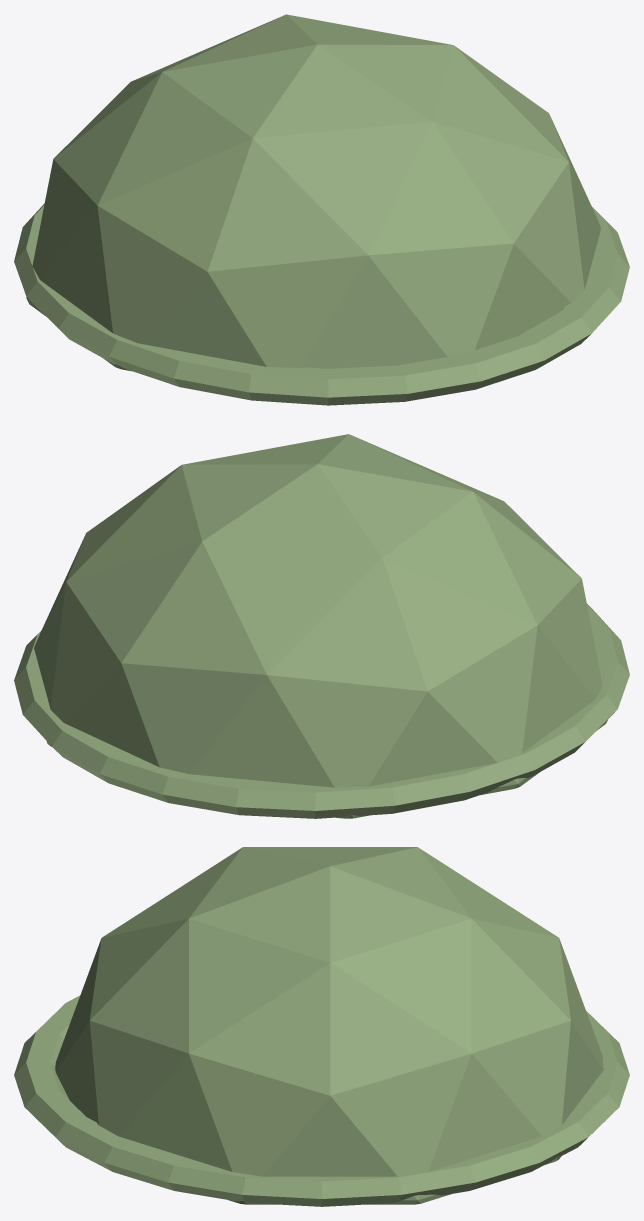
File: hw-helmet.glb
3 renders of one model, top to bottom at view 1: azimuth 30°, elevation 25°; view 2: azimuth 150°, elevation 25°; view 3: azimuth 270°, elevation 25°, orthographic. The views are drawn at different scales.
Visible parts, largest first — view 1: helmet_pot, helmet_rim; view 2: helmet_pot, helmet_rim; view 3: helmet_pot, helmet_rim.
Boxes of the visible parts, <box> form: helmet_pot: <box>26,14,601,371</box>; helmet_rim: <box>14,203,629,405</box>; helmet_pot: <box>34,434,607,818</box>; helmet_rim: <box>14,604,629,818</box>; helmet_pot: <box>55,847,603,1204</box>; helmet_rim: <box>14,995,629,1206</box>.
Bounding box in the file's own units: 0.56 × 0.235 × 0.588.
